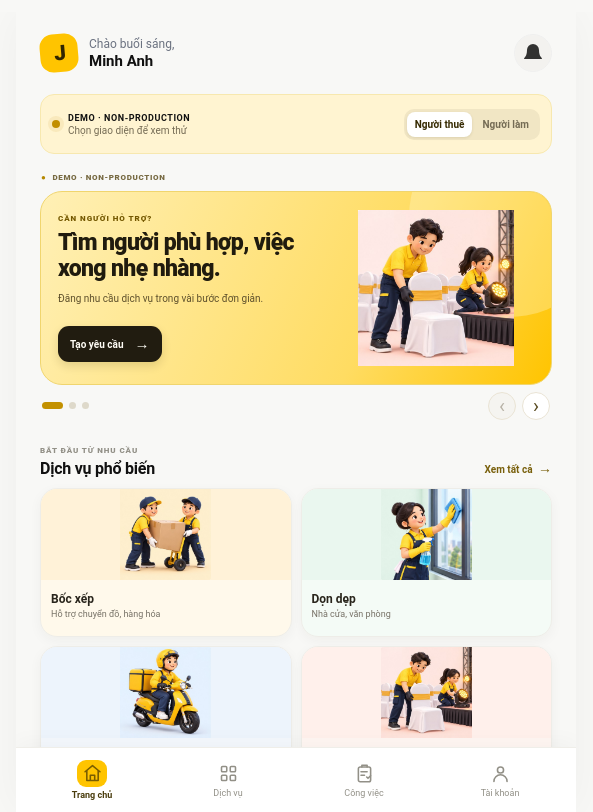
it: Employer request lifecycle demo › keeps Employer request history hidden after switching into Worker context
Click the button "Công việc" at (364, 780), box [297, 756, 431, 804]
(page scrolled)
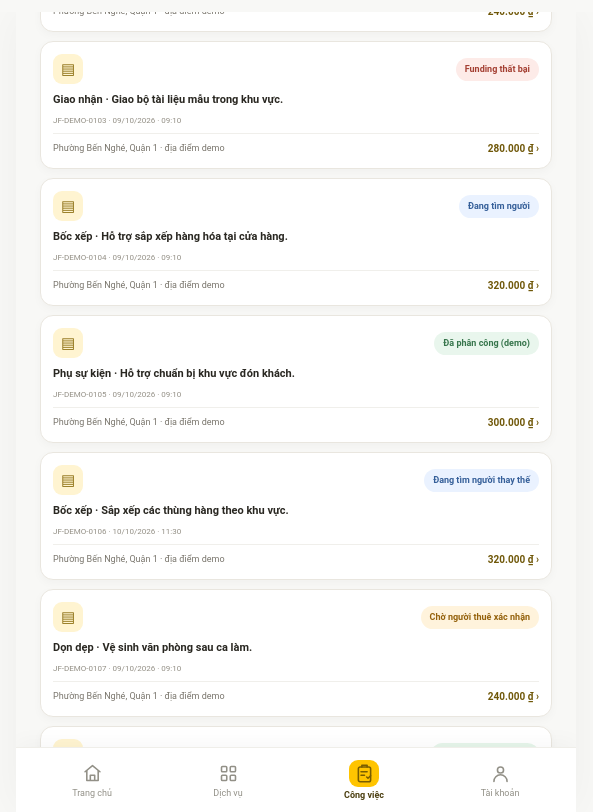
Click the button named "JF-DEMO-0105" at (296, 379), box [40, 315, 552, 443]
(page scrolled)
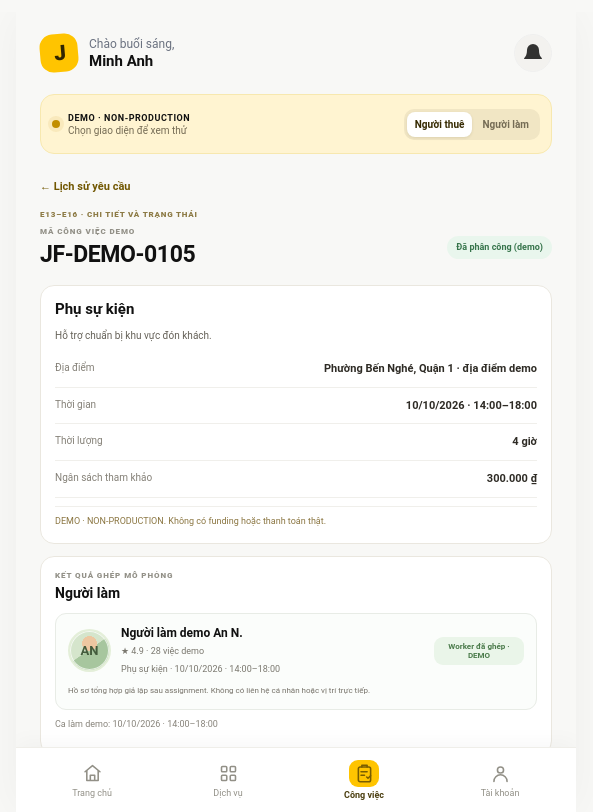
Check: the heading "JF-DEMO-0105" is shown, box [40, 241, 195, 269]
Click the button "Người làm" at (506, 124), box [474, 112, 537, 136]
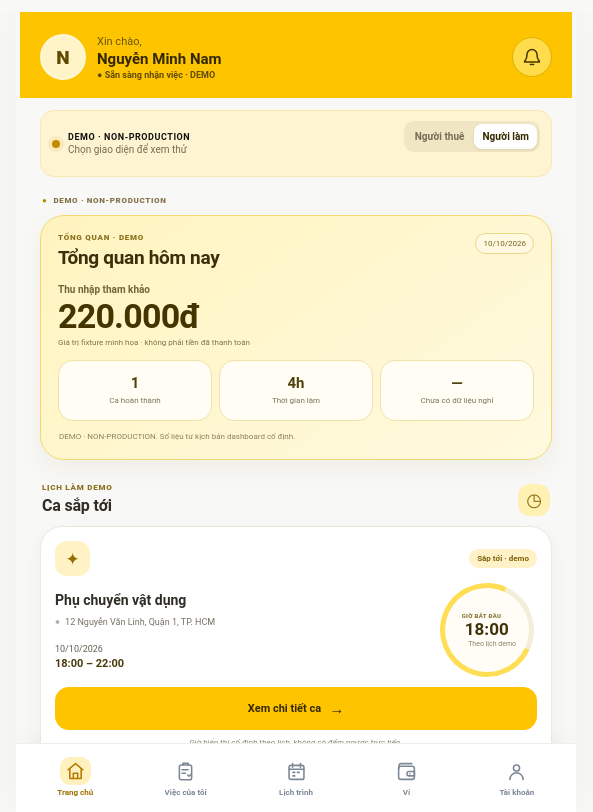
Check: the heading "JF-DEMO-0105" is gone
Check: the navigation bar named "người làm" is shown, box [16, 743, 576, 811]
